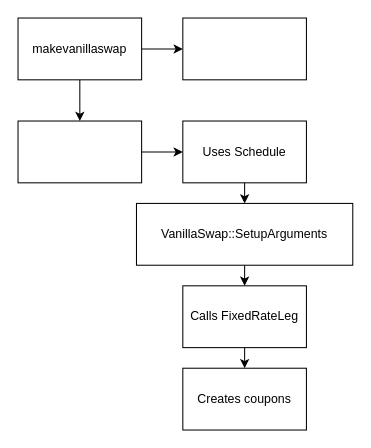
This 371x448 diagram has some shape labels left out. The centre of each missing label's shape, as x and y in pixels:
"Creates Schedule" goes at pixel 244 48.
"vanillaswap" goes at pixel 79 151.
